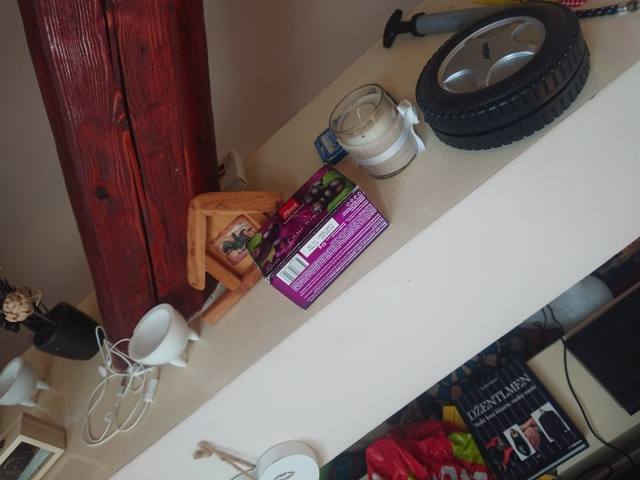Franck Black Currant Tea 60g: (242, 161, 393, 312)
